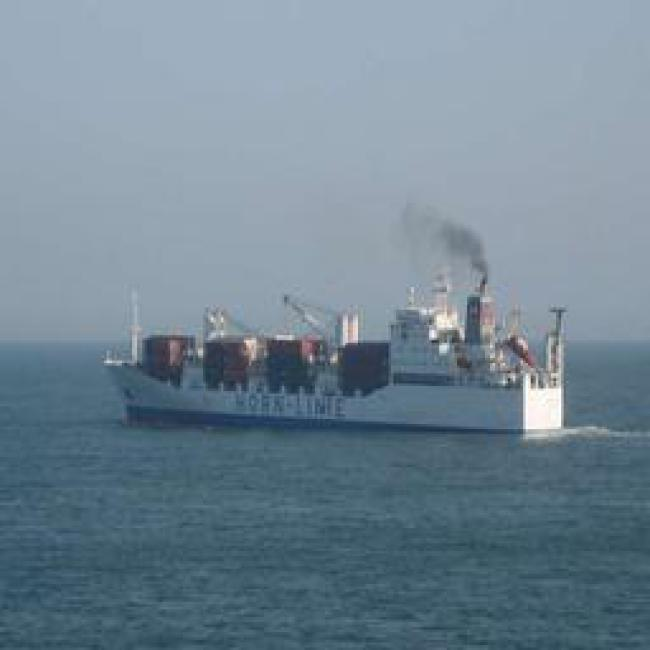Ship: (97, 313, 594, 447)
